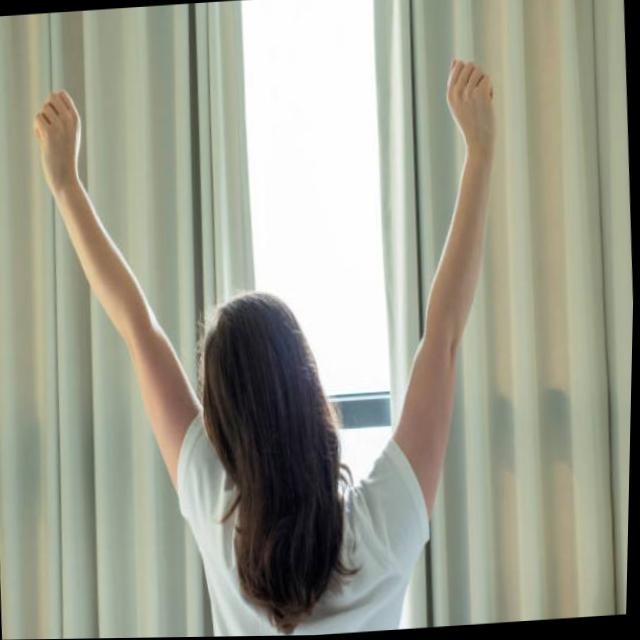no helmet: (199, 283, 341, 503)
